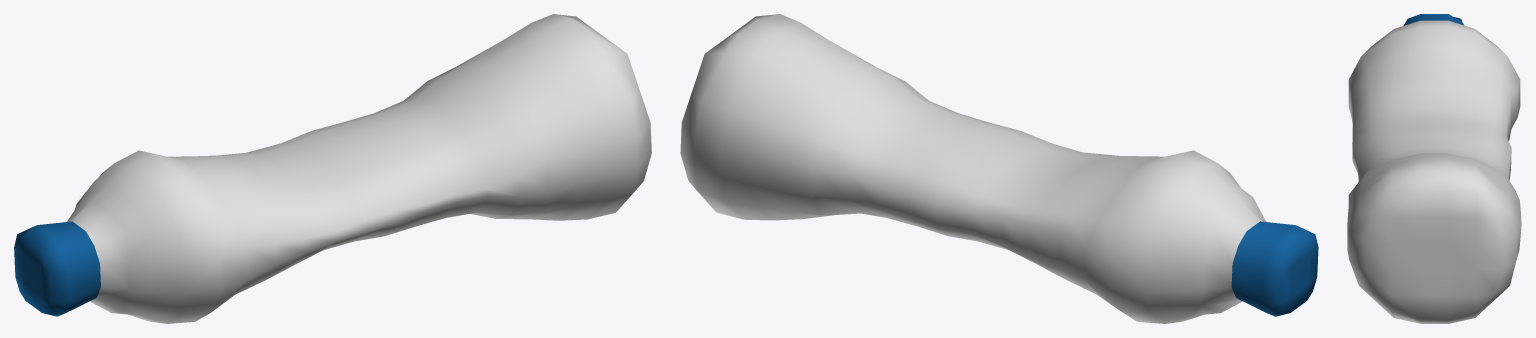
File: PlasticBottle.fbx
3 views of the same model, side by side, from view 1: azimuth 30°, elevation 25°; view 2: azimuth 150°, elevation 25°; view 3: azimuth 270°, elevation 25° (orthographic). The views are drawn at different scales.
Visible parts, largest first — view 1: Plastic bottle; view 2: Plastic bottle; view 3: Plastic bottle.
Part boxes in pixels (left/top/right/bottom): Plastic bottle: left=14, top=14, right=651, bottom=323; Plastic bottle: left=680, top=14, right=1318, bottom=323; Plastic bottle: left=1347, top=14, right=1521, bottom=323.
Size of the model in its own units: 23.11 by 7.07 by 7.16.
